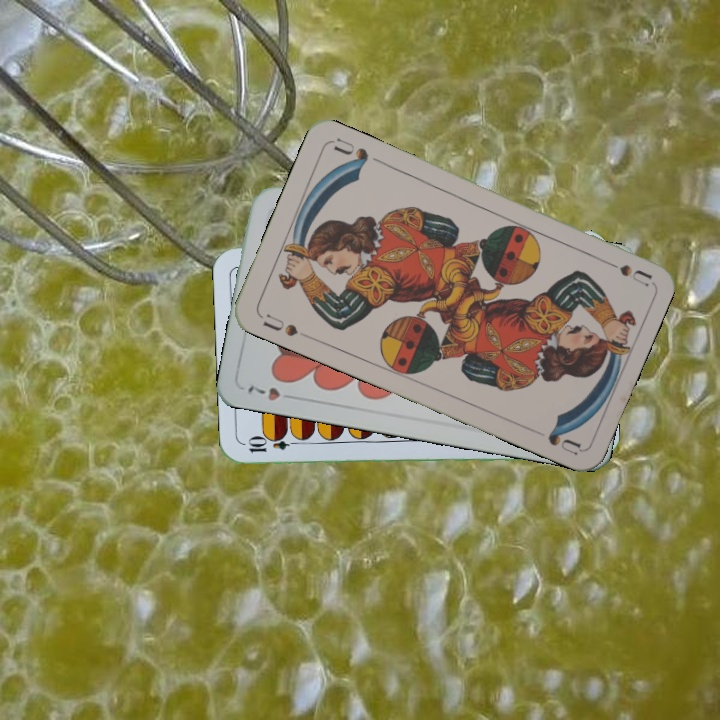E10: (244, 435, 303, 455)
H7: (243, 381, 300, 404)
SU: (595, 254, 653, 289), (258, 309, 312, 339)
